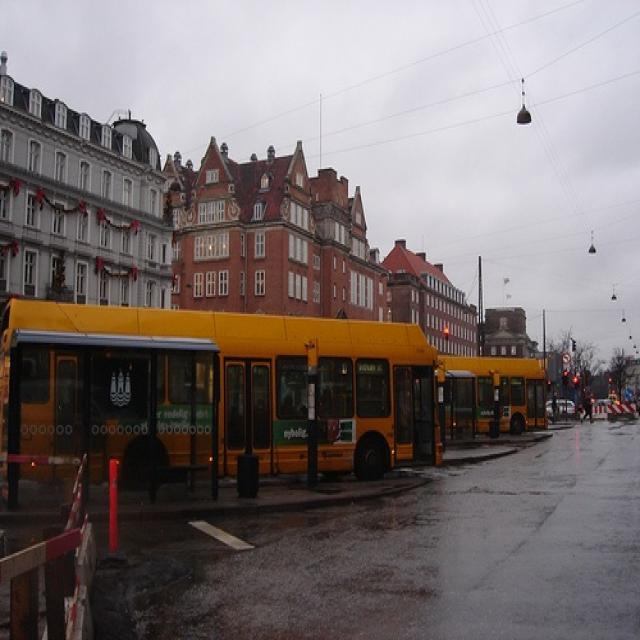bus: (0, 288, 452, 500), (439, 356, 547, 438)
warning_column: (104, 452, 120, 550)
